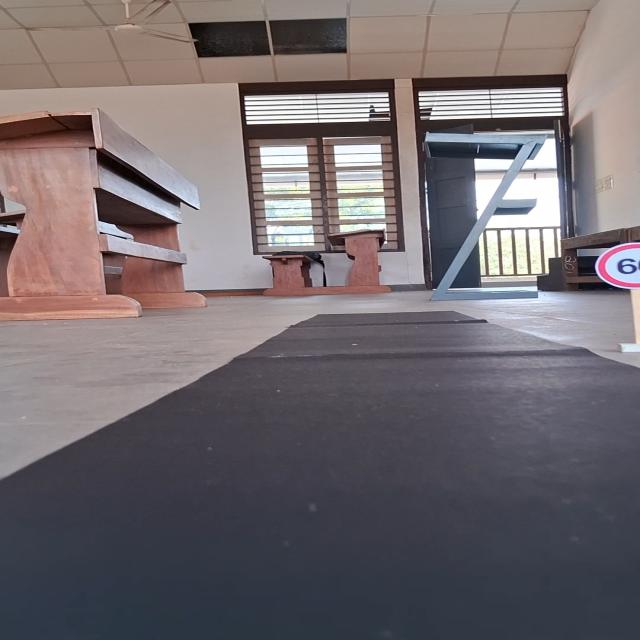Speed60: (591, 242, 640, 291)
